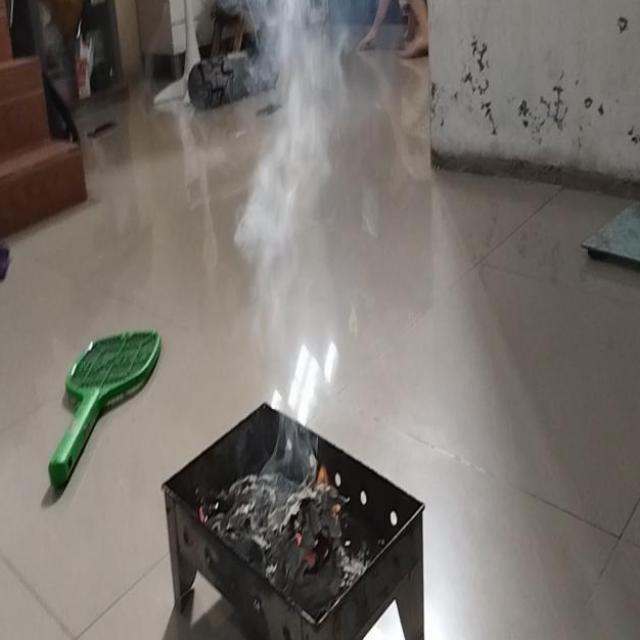fire: (231, 0, 347, 282)
